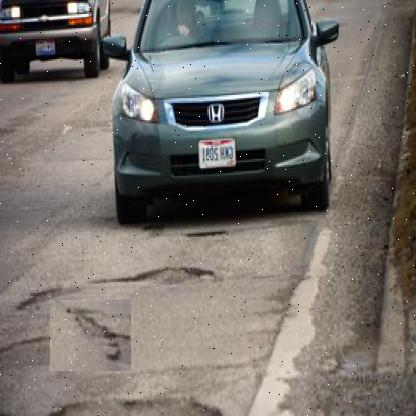damage: (49, 300, 131, 372), (120, 246, 230, 293)
